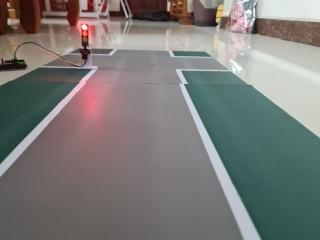red: (77, 20, 93, 54)
